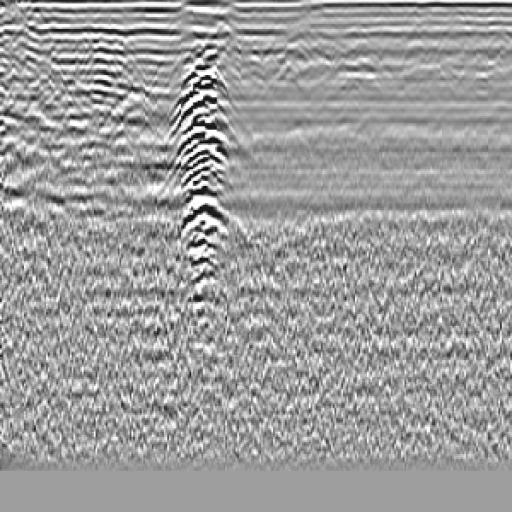metalic: (165, 32, 246, 312)
